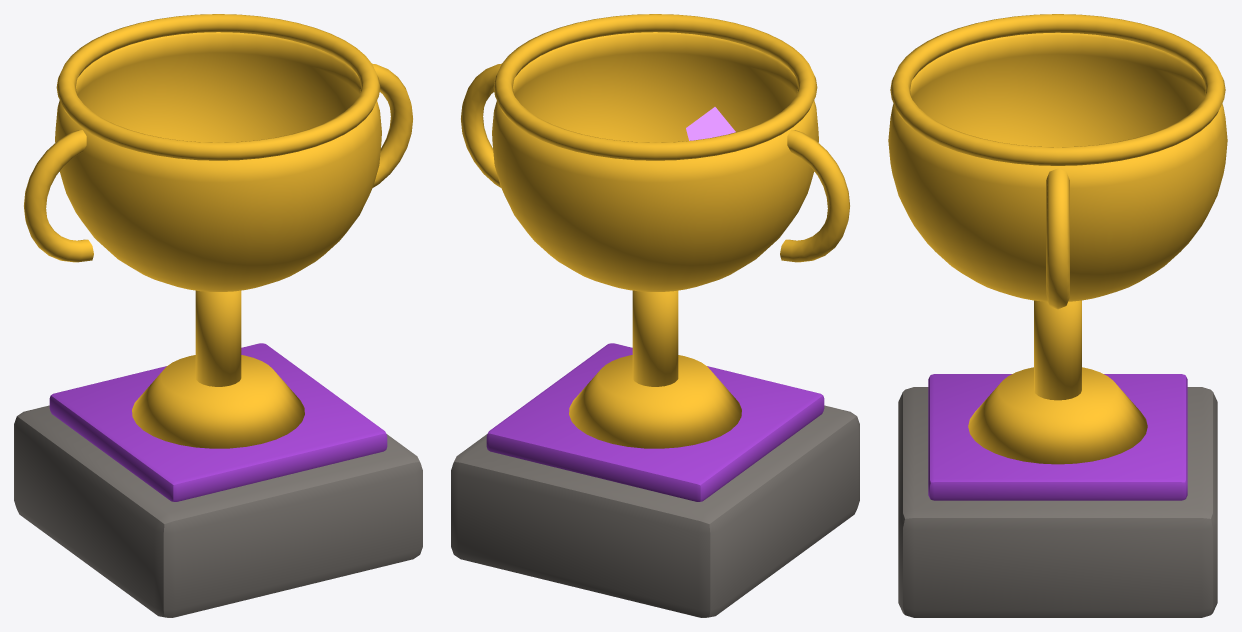
Rendered from Trophy.fbx.
3 views of the same model, side by side, from view 1: azimuth 30°, elevation 25°; view 2: azimuth 150°, elevation 25°; view 3: azimuth 270°, elevation 25° (orthographic). The views are drawn at different scales.
Parts seen in each view (by area): view 1: Trophy_Gold, Trophy_Stone, Trophy_Body; view 2: Trophy_Gold, Trophy_Stone, Trophy_Body, Trophy_Glow; view 3: Trophy_Gold, Trophy_Stone, Trophy_Body.
Boxes of the visible parts, <box> form: Trophy_Gold: <box>24,14,412,448</box>; Trophy_Stone: <box>14,405,422,617</box>; Trophy_Body: <box>49,343,387,501</box>; Trophy_Gold: <box>461,14,849,448</box>; Trophy_Stone: <box>451,405,859,617</box>; Trophy_Body: <box>486,343,824,501</box>; Trophy_Glow: <box>686,107,735,140</box>; Trophy_Gold: <box>888,14,1227,464</box>; Trophy_Stone: <box>898,387,1217,617</box>; Trophy_Body: <box>928,374,1187,500</box>.
Size of the model in its own units: 232 by 263 by 170.
